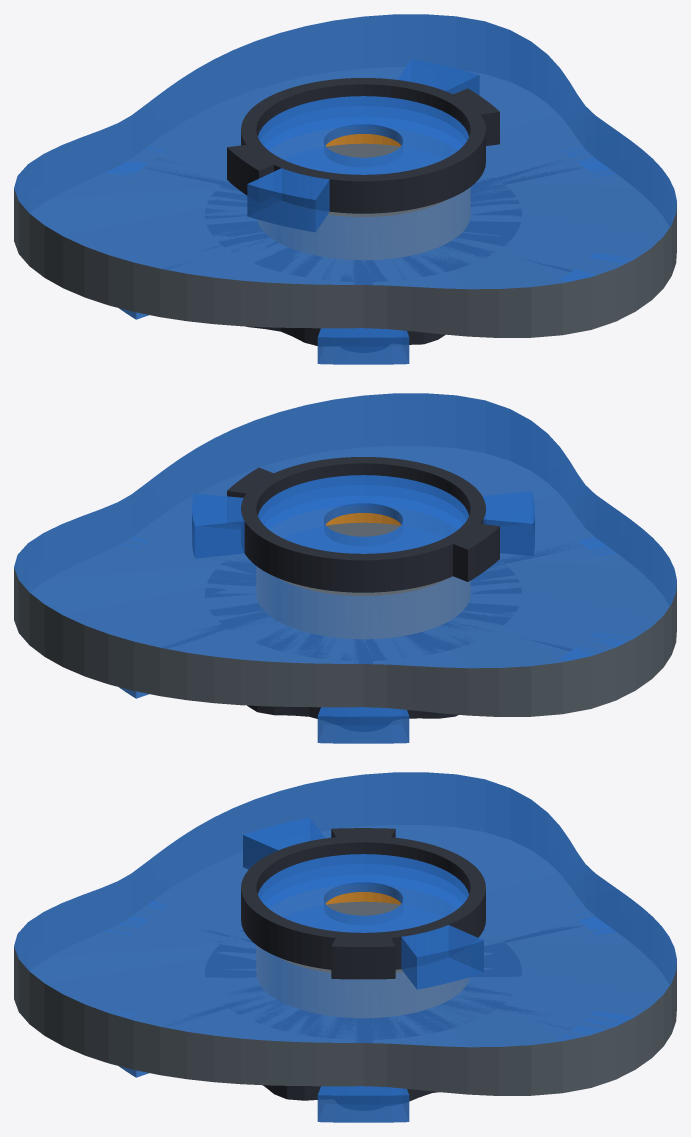
Rendered from assembly_phase2b_attack_representative.glb.
3 renders of one model, top to bottom at view 1: azimuth 30°, elevation 25°; view 2: azimuth 150°, elevation 25°; view 3: azimuth 270°, elevation 25°, orthographic.
Visible parts, largest first — view 1: GEO_blade_storm_fang_BODY, GEO_core_void_falcon_HUB, GEO_core_void_falcon_NSS_V1_COLLAR, GEO_assist_air_HUB, GEO_core_void_falcon_OUTER_ARC_2, GEO_assist_air_BRIDGE_5, GEO_core_void_falcon_OUTER_ARC_1, GEO_core_void_falcon_INNER_ARC_2, GEO_blade_storm_fang_NSS_V1_COLLAR, GEO_core_void_falcon_INNER_ARC_1, GEO_gear_low_BODY; view 2: GEO_blade_storm_fang_BODY, GEO_core_void_falcon_HUB, GEO_core_void_falcon_NSS_V1_COLLAR, GEO_assist_air_HUB, GEO_assist_air_BRIDGE_3, GEO_core_void_falcon_OUTER_ARC_1, GEO_core_void_falcon_OUTER_ARC_2, GEO_core_void_falcon_INNER_ARC_2, GEO_blade_storm_fang_NSS_V1_COLLAR, GEO_gear_low_BODY, GEO_core_void_falcon_INNER_ARC_1; view 3: GEO_blade_storm_fang_BODY, GEO_core_void_falcon_NSS_V1_COLLAR, GEO_core_void_falcon_HUB, GEO_assist_air_HUB, GEO_core_void_falcon_OUTER_ARC_1, GEO_assist_air_BRIDGE_1, GEO_core_void_falcon_INNER_ARC_1, GEO_core_void_falcon_OUTER_ARC_2, GEO_blade_storm_fang_NSS_V1_COLLAR, GEO_gear_low_BODY, GEO_core_void_falcon_INNER_ARC_2.
Part boxes in pixels (x1=…): GEO_blade_storm_fang_BODY: x1=14, y1=14, x2=676, y2=337; GEO_core_void_falcon_HUB: x1=241, y1=78, x2=485, y2=213; GEO_core_void_falcon_NSS_V1_COLLAR: x1=258, y1=96, x2=468, y2=174; GEO_assist_air_HUB: x1=205, y1=177, x2=521, y2=281; GEO_core_void_falcon_OUTER_ARC_2: x1=247, y1=168, x2=329, y2=232; GEO_assist_air_BRIDGE_5: x1=317, y1=328, x2=409, y2=364; GEO_core_void_falcon_OUTER_ARC_1: x1=397, y1=59, x2=479, y2=95; GEO_core_void_falcon_INNER_ARC_2: x1=227, y1=145, x2=273, y2=195; GEO_blade_storm_fang_NSS_V1_COLLAR: x1=326, y1=143, x2=447, y2=216; GEO_core_void_falcon_INNER_ARC_1: x1=453, y1=88, x2=499, y2=145; GEO_gear_low_BODY: x1=245, y1=326, x2=445, y2=345; GEO_blade_storm_fang_BODY: x1=14, y1=393, x2=676, y2=716; GEO_core_void_falcon_HUB: x1=241, y1=457, x2=485, y2=592; GEO_core_void_falcon_NSS_V1_COLLAR: x1=258, y1=475, x2=468, y2=553; GEO_assist_air_HUB: x1=205, y1=560, x2=521, y2=660; GEO_assist_air_BRIDGE_3: x1=317, y1=707, x2=409, y2=743; GEO_core_void_falcon_OUTER_ARC_1: x1=192, y1=493, x2=244, y2=558; GEO_core_void_falcon_OUTER_ARC_2: x1=482, y1=491, x2=534, y2=555; GEO_core_void_falcon_INNER_ARC_2: x1=453, y1=524, x2=499, y2=581; GEO_blade_storm_fang_NSS_V1_COLLAR: x1=279, y1=522, x2=447, y2=595; GEO_gear_low_BODY: x1=247, y1=705, x2=458, y2=718; GEO_core_void_falcon_INNER_ARC_1: x1=227, y1=467, x2=273, y2=497; GEO_blade_storm_fang_BODY: x1=14, y1=772, x2=676, y2=1095; GEO_core_void_falcon_NSS_V1_COLLAR: x1=258, y1=854, x2=468, y2=932; GEO_core_void_falcon_HUB: x1=241, y1=836, x2=485, y2=969; GEO_assist_air_HUB: x1=205, y1=930, x2=521, y2=1039; GEO_core_void_falcon_OUTER_ARC_1: x1=401, y1=925, x2=483, y2=989; GEO_assist_air_BRIDGE_1: x1=317, y1=1086, x2=409, y2=1122; GEO_core_void_falcon_INNER_ARC_1: x1=331, y1=938, x2=395, y2=979; GEO_core_void_falcon_OUTER_ARC_2: x1=243, y1=818, x2=325, y2=869; GEO_blade_storm_fang_NSS_V1_COLLAR: x1=279, y1=901, x2=403, y2=972; GEO_gear_low_BODY: x1=263, y1=1085, x2=439, y2=1101; GEO_core_void_falcon_INNER_ARC_2: x1=331, y1=828, x2=395, y2=837.
Bounding box in the file's own units: 0.0647 × 0.0235 × 0.0669.
